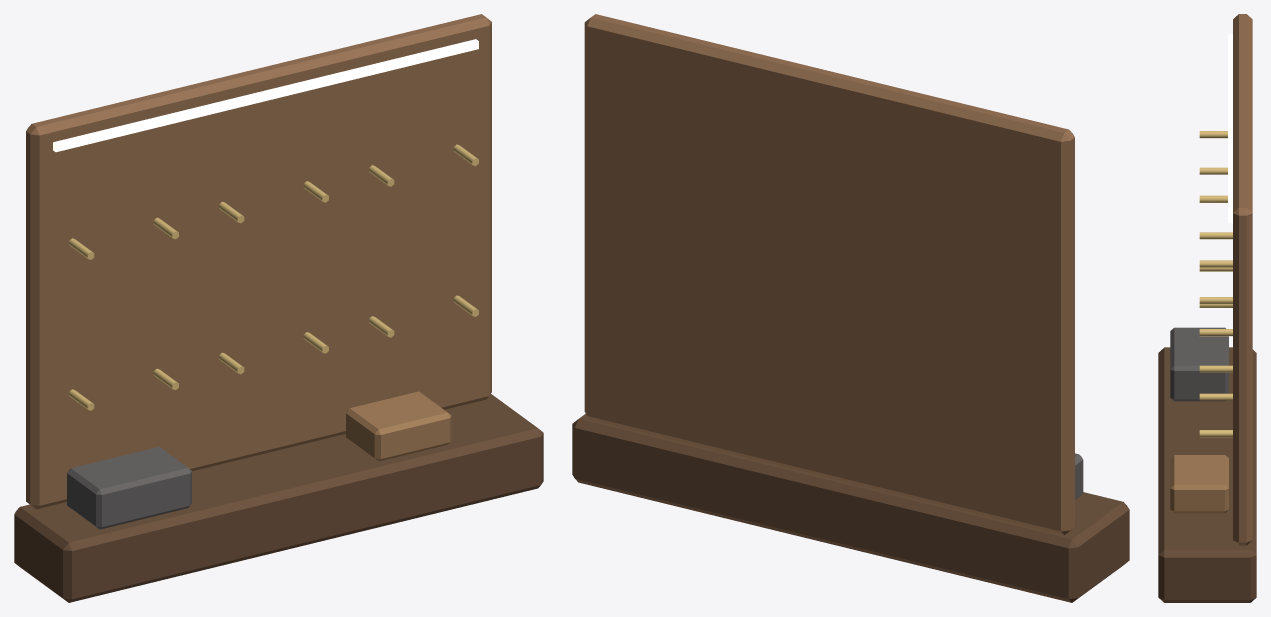
The model's file is hm_rack.glb.
3 views of the same model, side by side, from view 1: azimuth 30°, elevation 25°; view 2: azimuth 150°, elevation 25°; view 3: azimuth 270°, elevation 25° (orthographic). The views are drawn at different scales.
Visible parts, largest first — view 1: hm_rack; view 2: hm_rack; view 3: hm_rack.
Part boxes in pixels (x1,y1,x2,y2): hm_rack: (14,14,543,602); hm_rack: (572,14,1129,602); hm_rack: (1158,14,1256,602).
Bounding box in the file's own units: 2.5 × 2.2 × 0.5.
